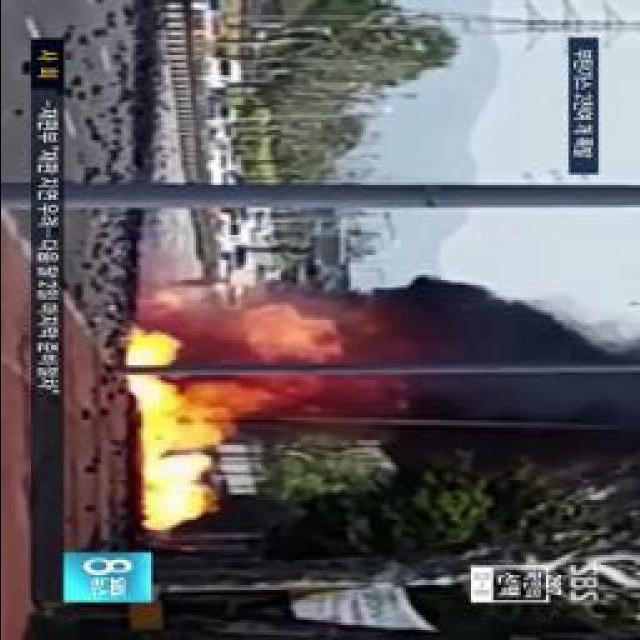Fire: (121, 297, 314, 518)
